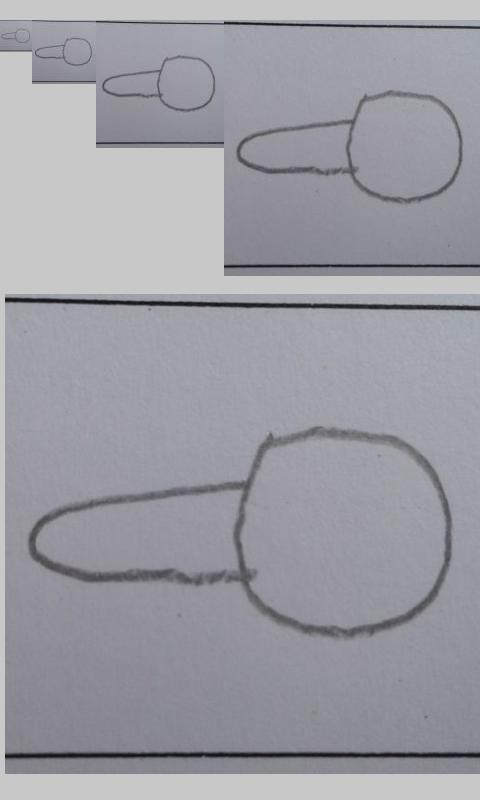switch: (27, 423, 454, 639), (235, 90, 465, 205), (100, 54, 216, 113), (34, 37, 93, 67), (1, 28, 31, 44)
